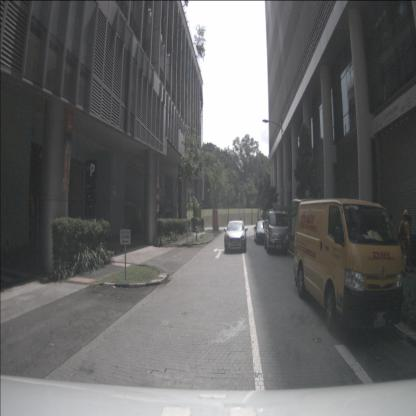human-pedestrian-adult: (406, 214, 414, 274)
vehicle-car: (292, 199, 407, 335), (264, 210, 289, 255), (224, 220, 247, 253), (254, 220, 272, 244)
